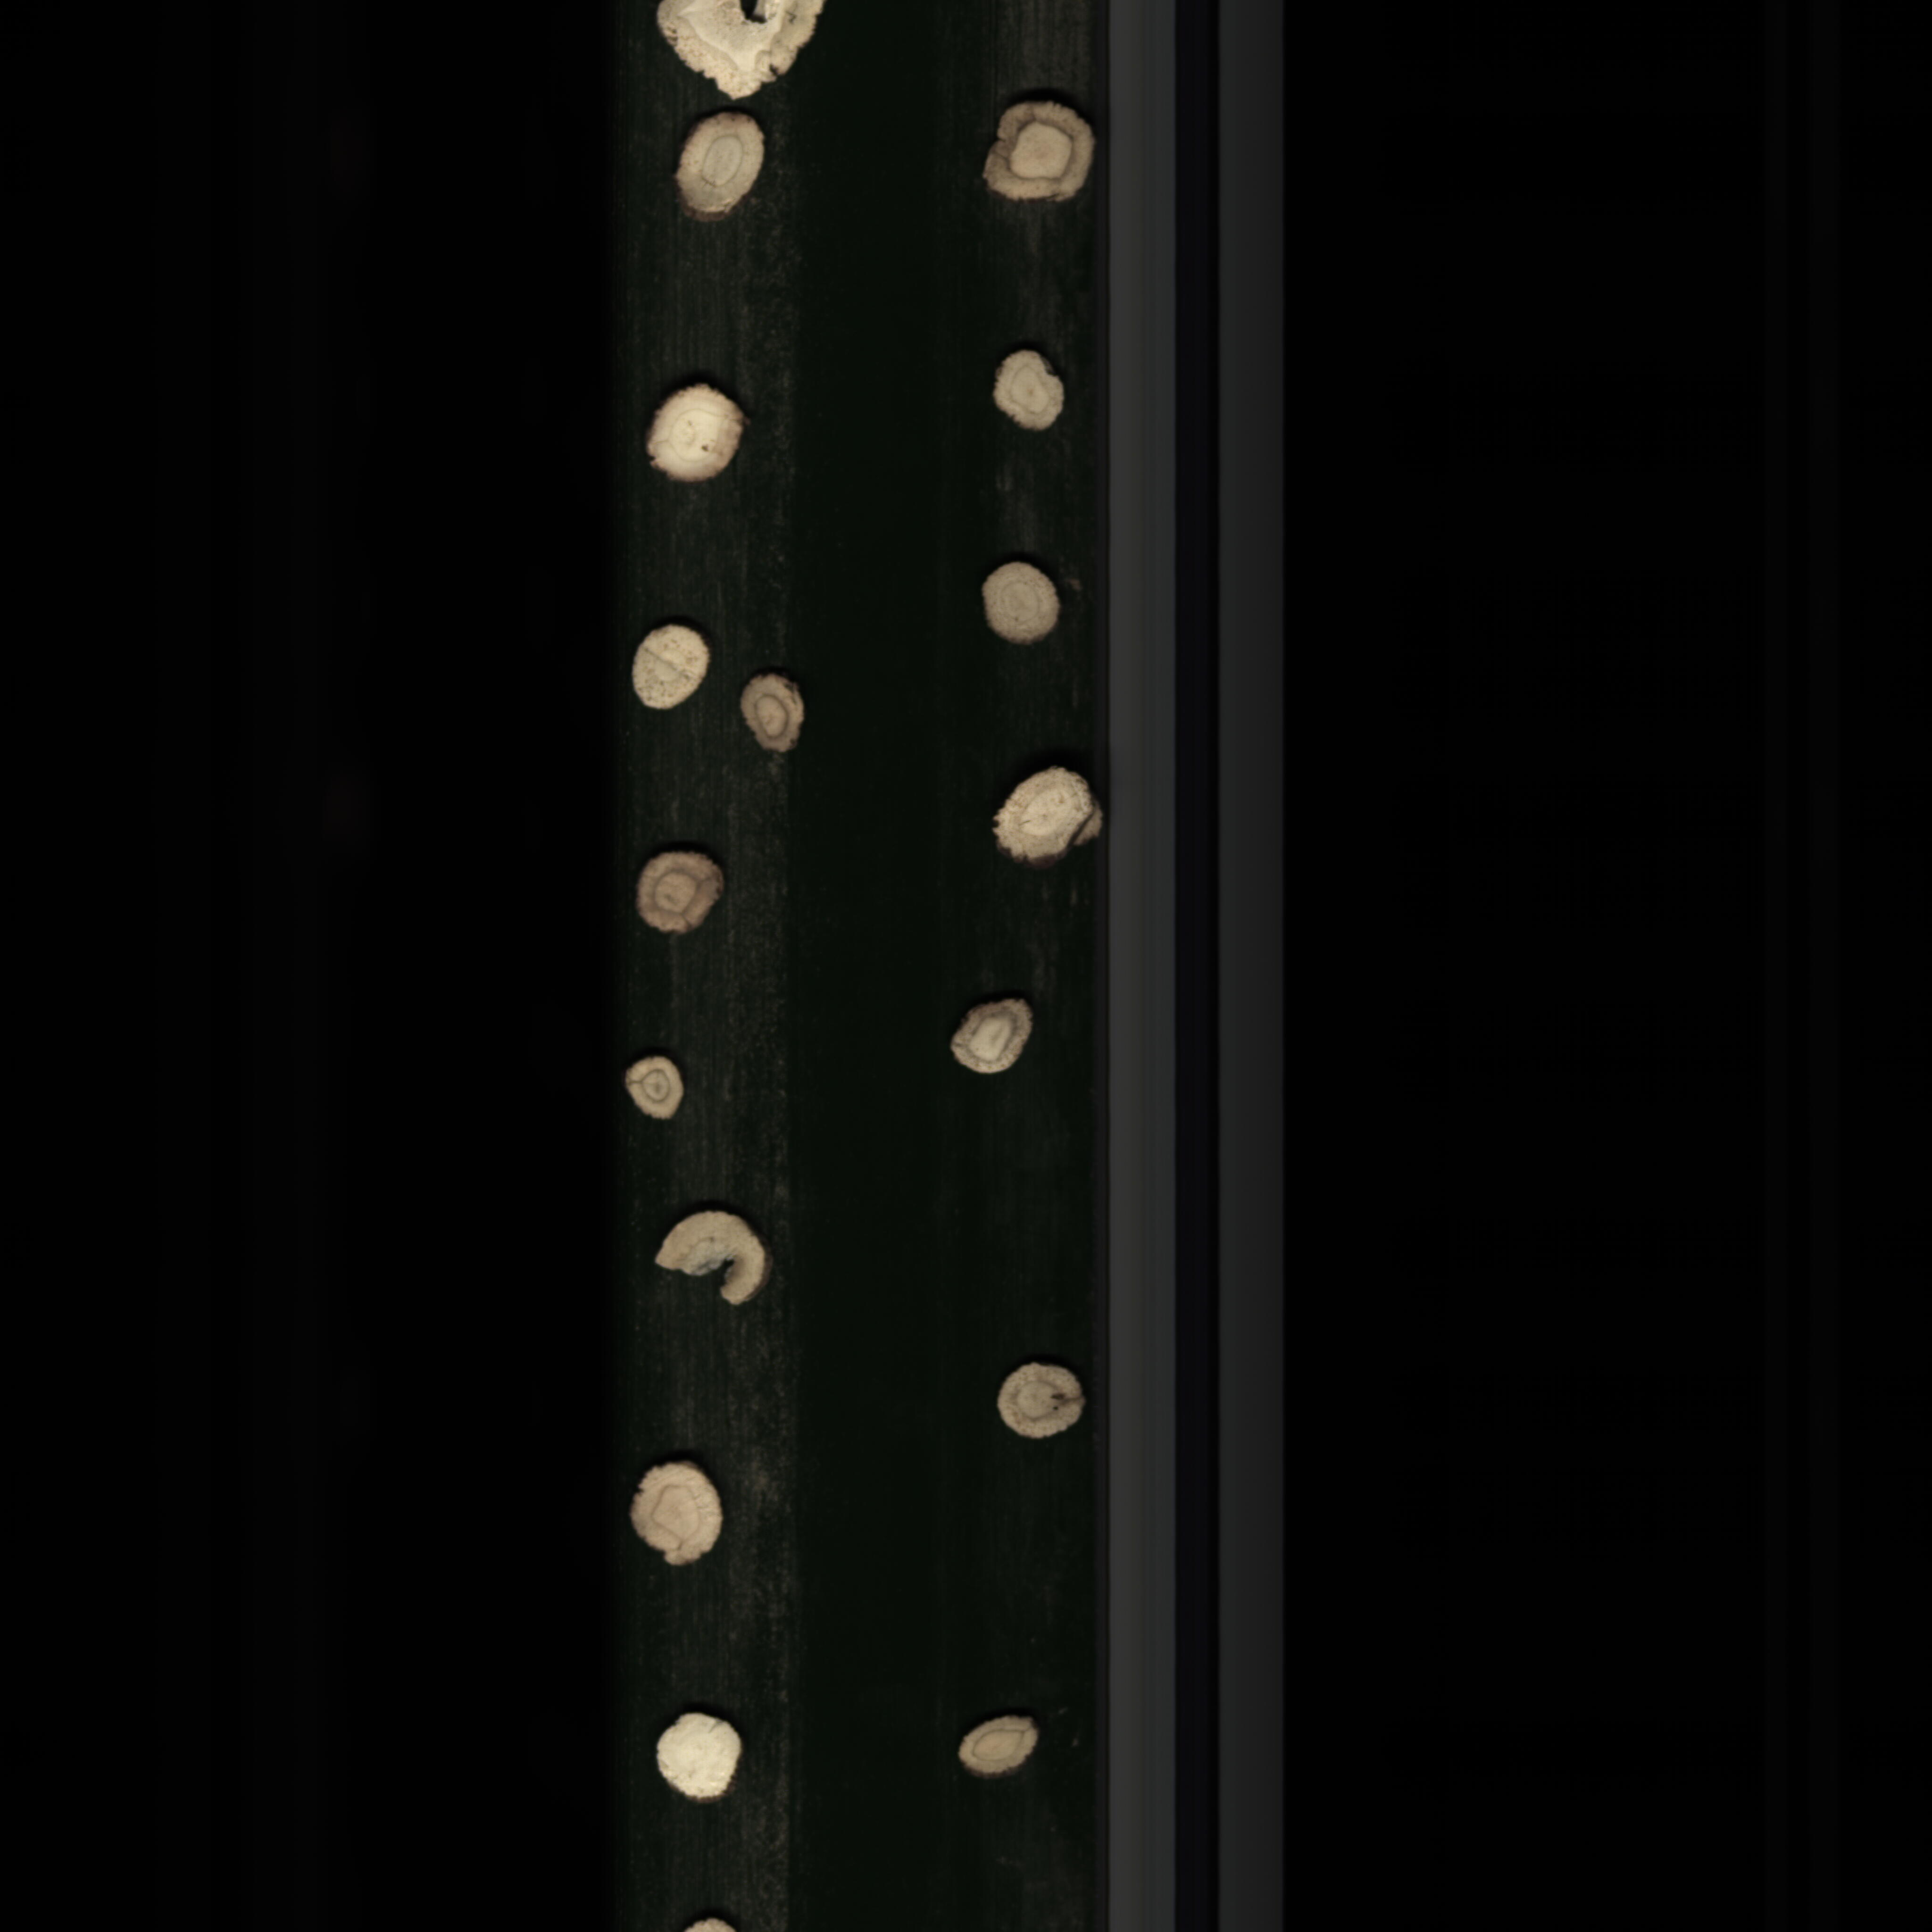debris: (648, 1201, 777, 1313)
hole: (646, 0, 870, 106)
moldy: (729, 669, 832, 768), (628, 851, 736, 939), (941, 994, 1042, 1081)
